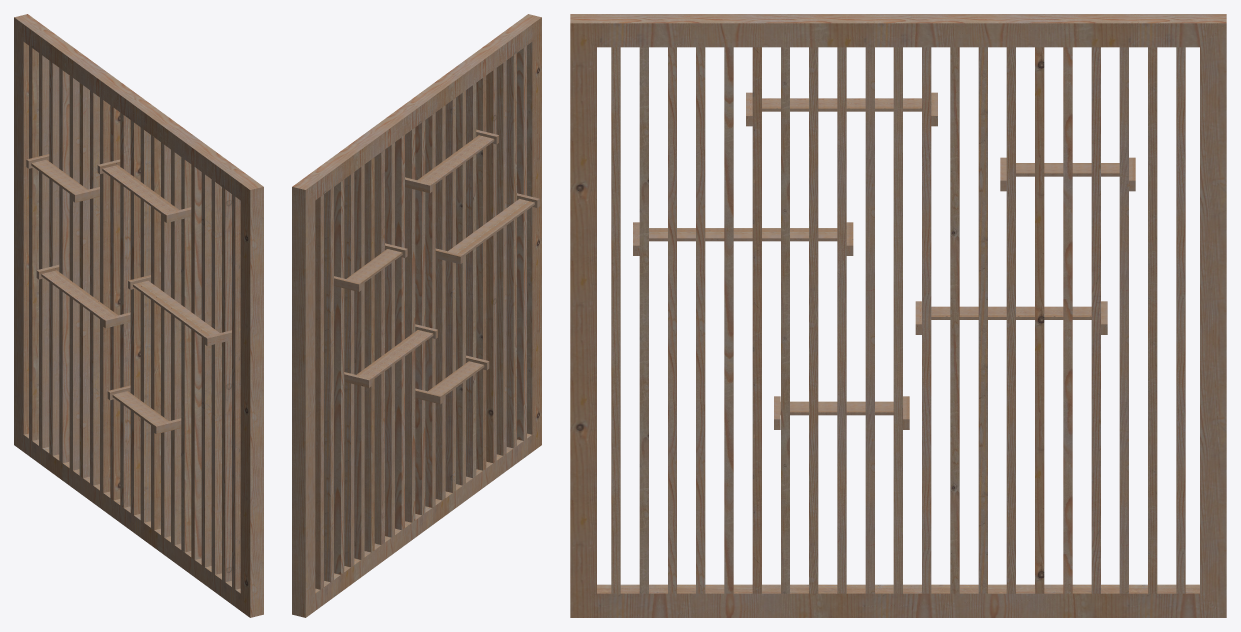
The model's file is divider-transformed.glb.
The picture shows the model from 3 angles, left to right: view 1: azimuth 30°, elevation 25°; view 2: azimuth 150°, elevation 25°; view 3: azimuth 270°, elevation 25°; orthographic projection. The views are drawn at different scales.
Visible parts, largest first — view 1: Plane.001, Plane, Plane.005, Plane.003, Plane.006, Plane.004, Plane.002; view 2: Plane.001, Plane, Plane.005, Plane.003, Plane.006, Plane.004, Plane.002; view 3: Plane.001, Plane, Plane.005, Plane.006, Plane.003, Plane.004, Plane.002.
Boxes of the visible parts, bbox=[...] form: Plane.001: bbox=[29, 46, 240, 589]; Plane: bbox=[14, 14, 263, 617]; Plane.005: bbox=[128, 275, 231, 345]; Plane.003: bbox=[97, 159, 191, 222]; Plane.006: bbox=[36, 265, 130, 328]; Plane.004: bbox=[107, 385, 181, 433]; Plane.002: bbox=[26, 154, 99, 202]; Plane.001: bbox=[315, 46, 526, 589]; Plane: bbox=[292, 14, 541, 617]; Plane.005: bbox=[435, 193, 539, 264]; Plane.003: bbox=[405, 129, 498, 192]; Plane.006: bbox=[344, 324, 437, 387]; Plane.004: bbox=[415, 355, 489, 404]; Plane.002: bbox=[334, 243, 407, 291]; Plane.001: bbox=[611, 47, 1185, 593]; Plane: bbox=[570, 14, 1226, 617]; Plane.005: bbox=[633, 222, 853, 255]; Plane.006: bbox=[915, 301, 1107, 334]; Plane.003: bbox=[746, 92, 937, 126]; Plane.004: bbox=[774, 396, 909, 429]; Plane.002: bbox=[1000, 157, 1135, 191].
Bounding box in the file's own units: 0.2515 × 3 × 3.
1 material, 1 textured.
